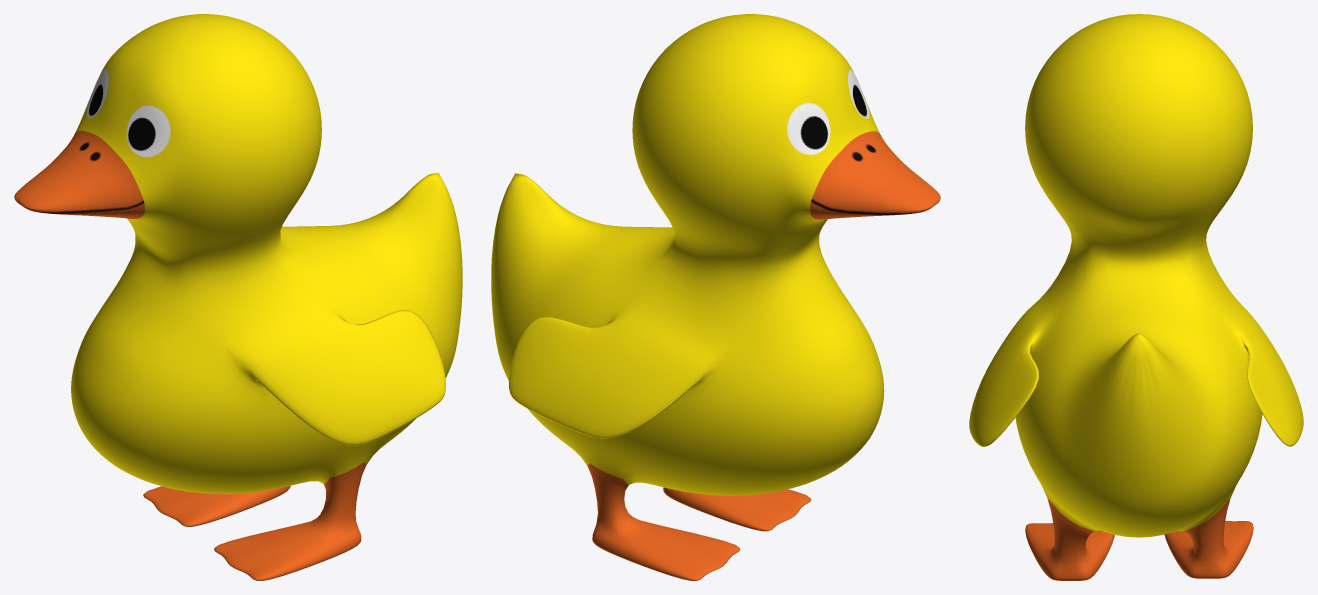
Rendered from patito.glb.
The picture shows the model from 3 angles, left to right: view 1: azimuth 30°, elevation 25°; view 2: azimuth 150°, elevation 25°; view 3: azimuth 270°, elevation 25°; orthographic projection. The views are drawn at different scales.
Parts seen in each view (by area): view 1: ducky_0; view 2: ducky_0; view 3: ducky_0.
Boxes of the visible parts, x1=… form: ducky_0: x1=14, y1=14, x2=462, y2=580; ducky_0: x1=491, y1=14, x2=940, y2=580; ducky_0: x1=969, y1=14, x2=1303, y2=580.
Bounding box in the file's own units: 0.5001 × 0.5649 × 0.3401.
2 materials, 2 textured.
